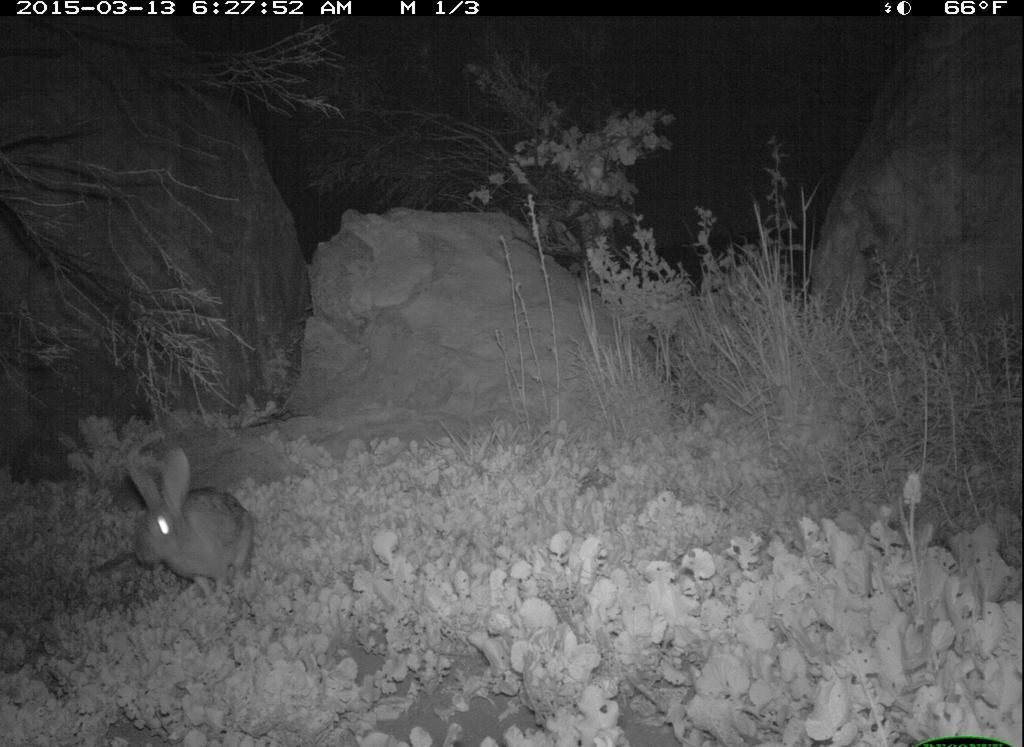rabbit: (103, 431, 273, 602)
